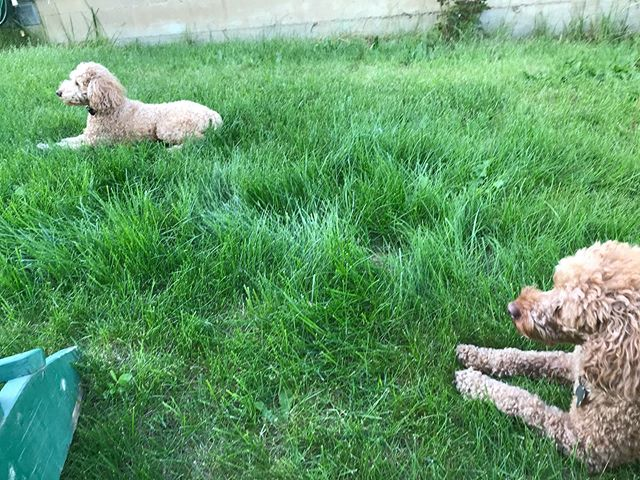animal: (444, 214, 640, 480), (55, 58, 239, 162)
grass: (12, 43, 635, 459)
